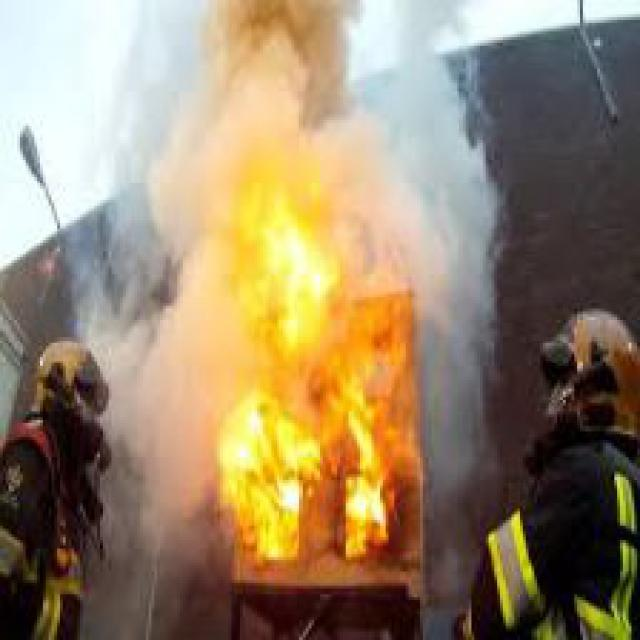fire: (194, 106, 417, 574)
